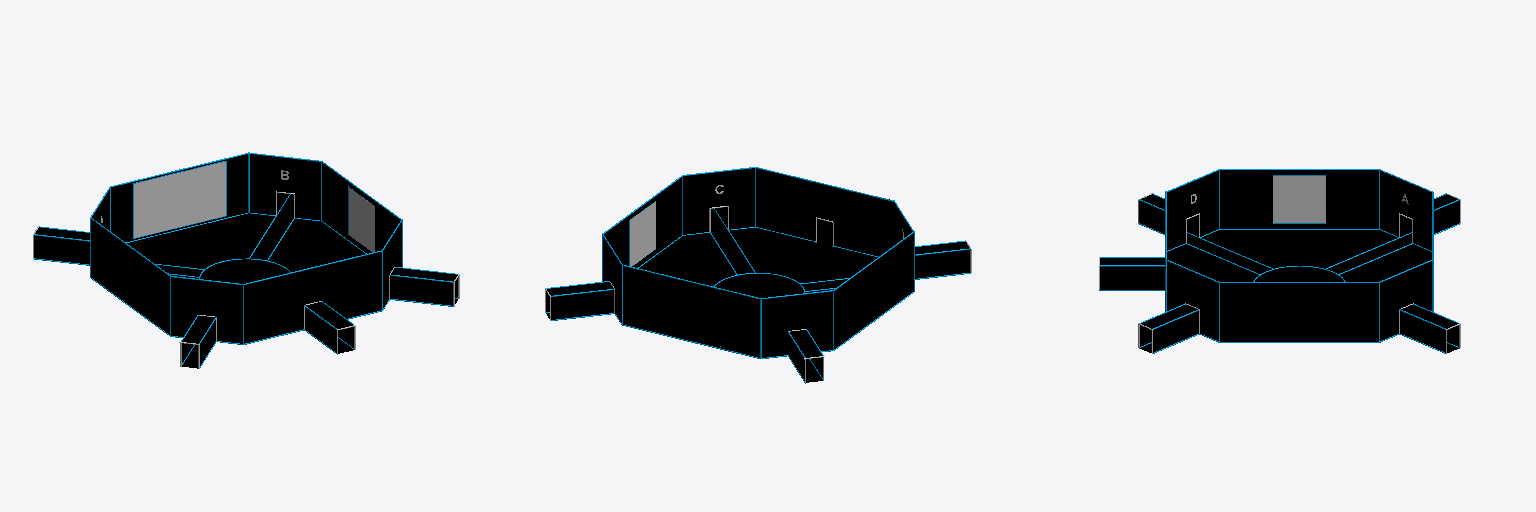
File: MazePlatformFinal.obj
3 renders of one model, left to right at view 1: azimuth 30°, elevation 25°; view 2: azimuth 150°, elevation 25°; view 3: azimuth 270°, elevation 25°, orthographic.
Parts seen in each view (by area): view 1: Plane.007; view 2: Plane.007; view 3: Plane.007.
Part boxes in pixels (x1,y1,x2,y2): Plane.007: (33,152,459,368); Plane.007: (545,167,971,383); Plane.007: (1099,169,1460,353).
Size of the model in its own units: 24.27 by 5.05 by 27.19.